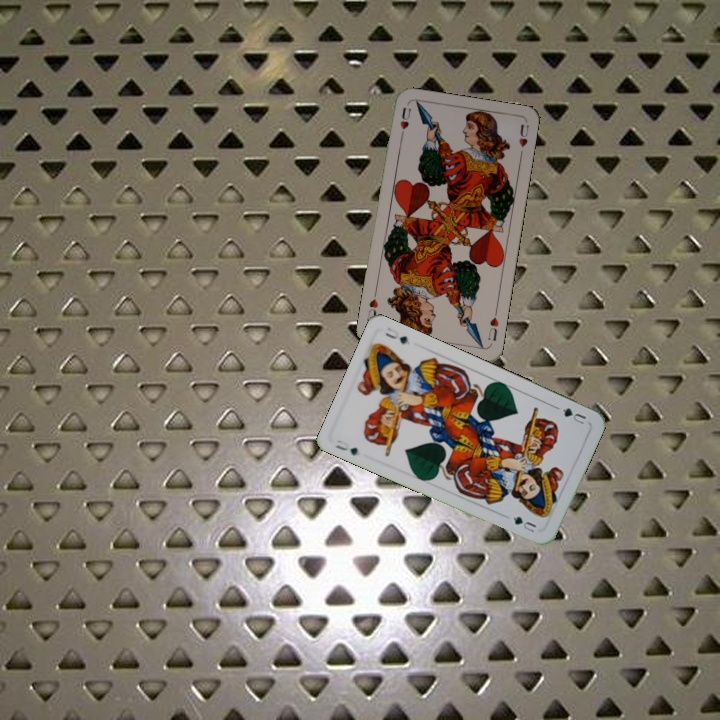GU: (558, 404, 589, 427), (330, 435, 360, 458)
HU: (396, 104, 414, 142), (484, 307, 501, 343)
